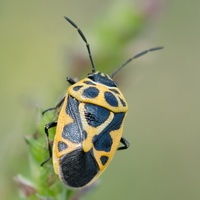insect: (43, 17, 162, 187)
